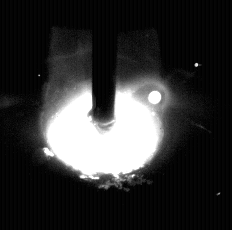arame: (93, 0, 116, 132)
poca: (39, 0, 166, 230)
